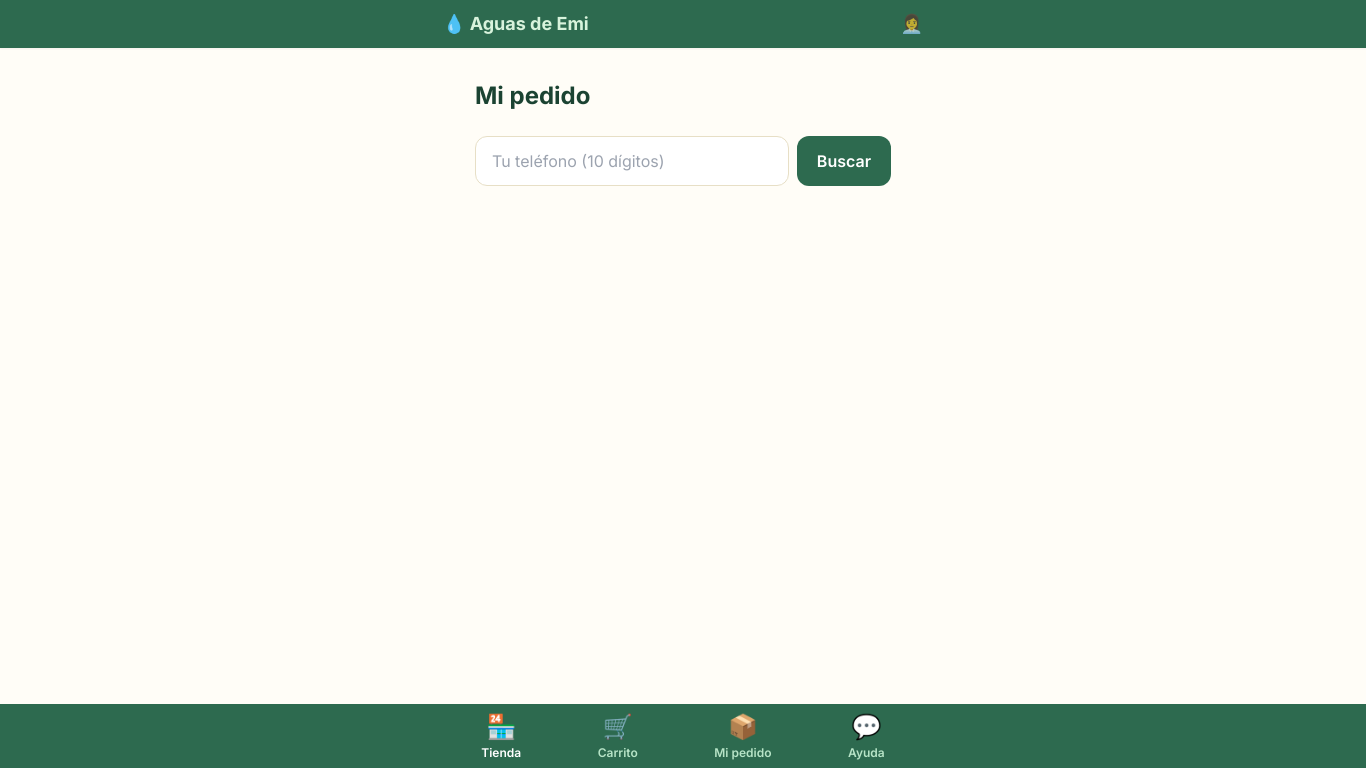
Test: MyOrdersPage › looks up active orders by phone
The image size is (1366, 768).
Type "5512345678" into the field with placeholder "Tu teléfono (10 dígitos)" at (632, 161), box [475,136,789,186]
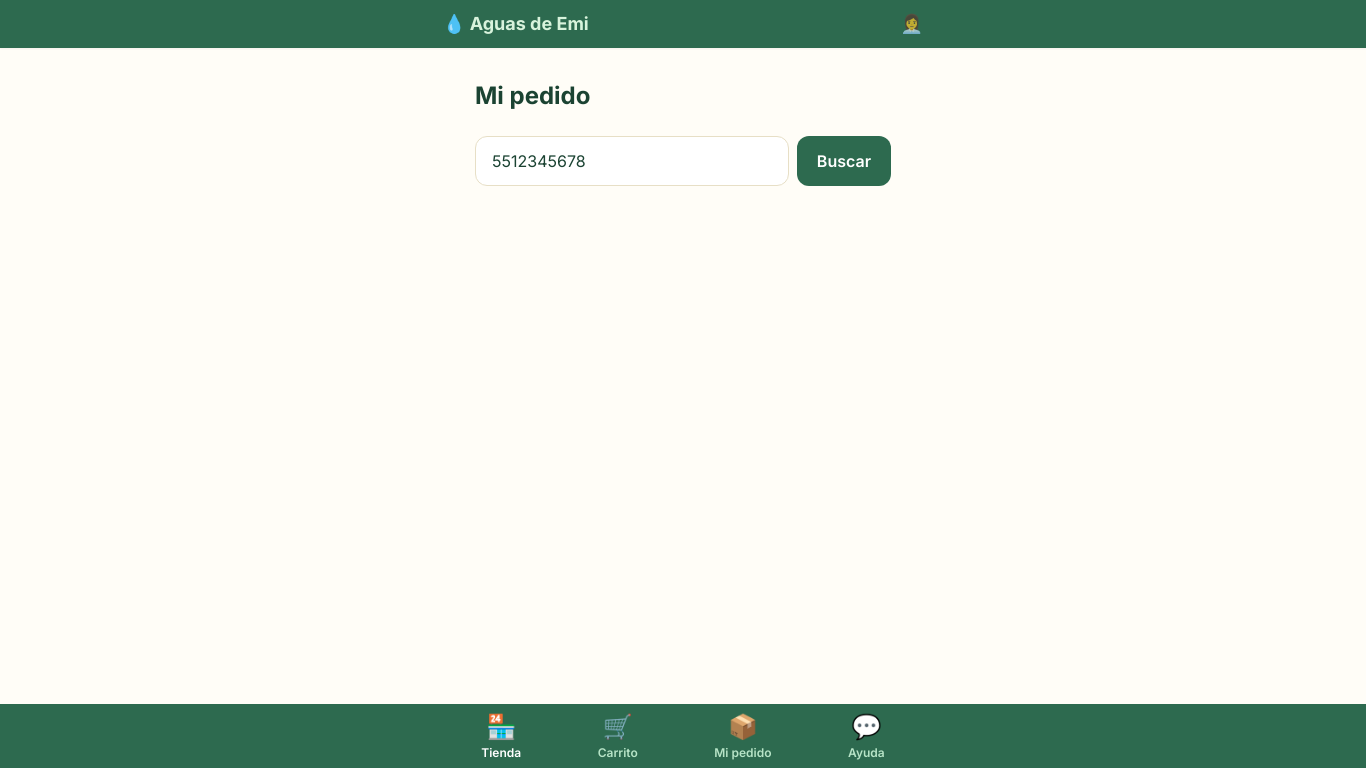
Click the button "Buscar" at (844, 161), box [797,136,891,186]
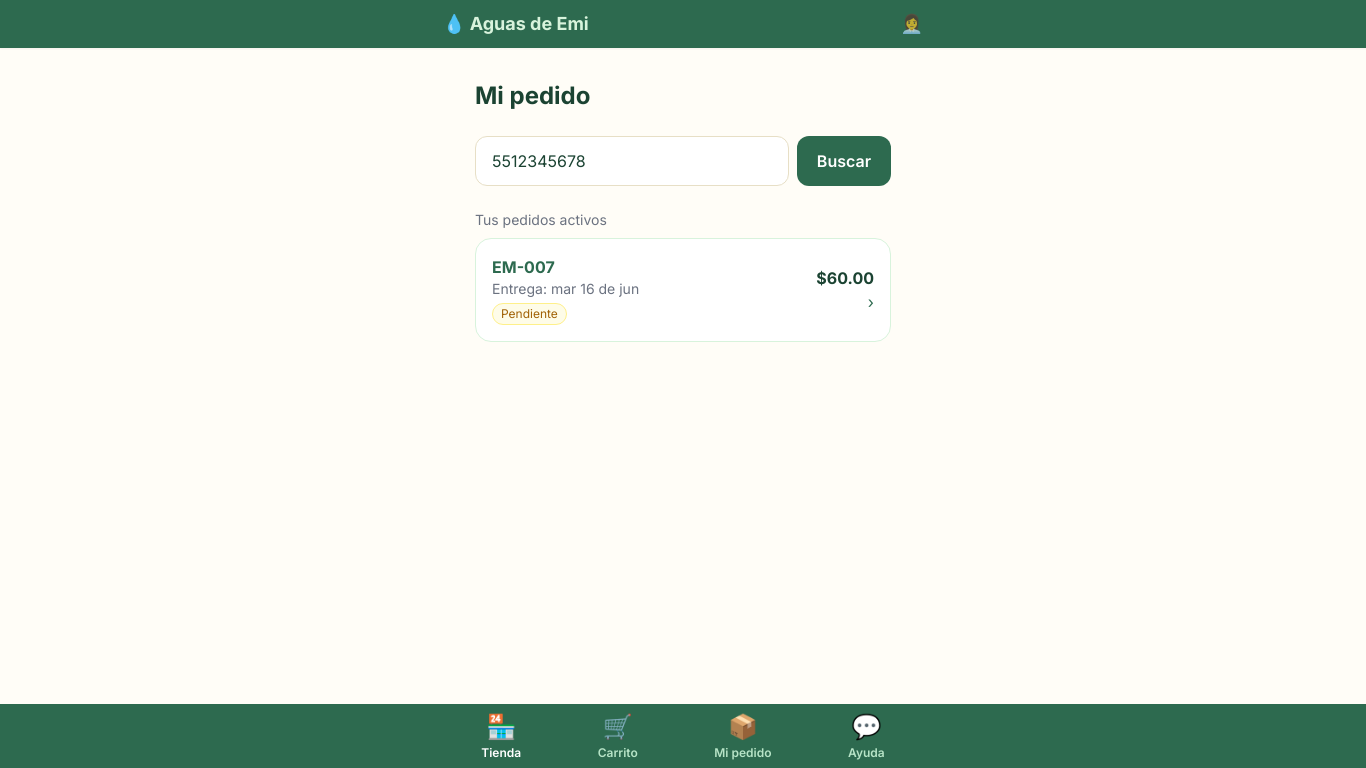
Expected: the text "EM-007" is shown, [492,257,555,277]
